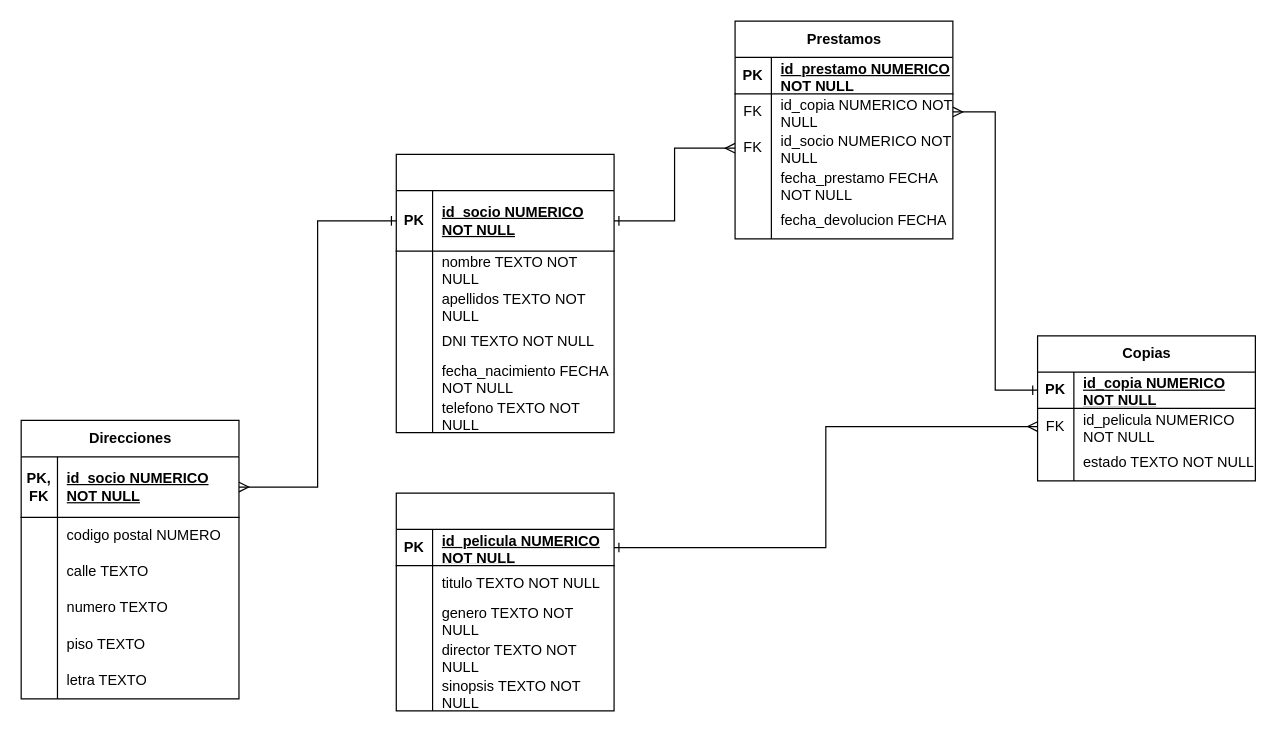
This 1277x732 diagram has some shape labels left out. Here are the shapes that lost their labels. From the top down, the box of each, then its label:
(395, 153, 614, 433): Socios
(395, 492, 614, 711): Peliculas
